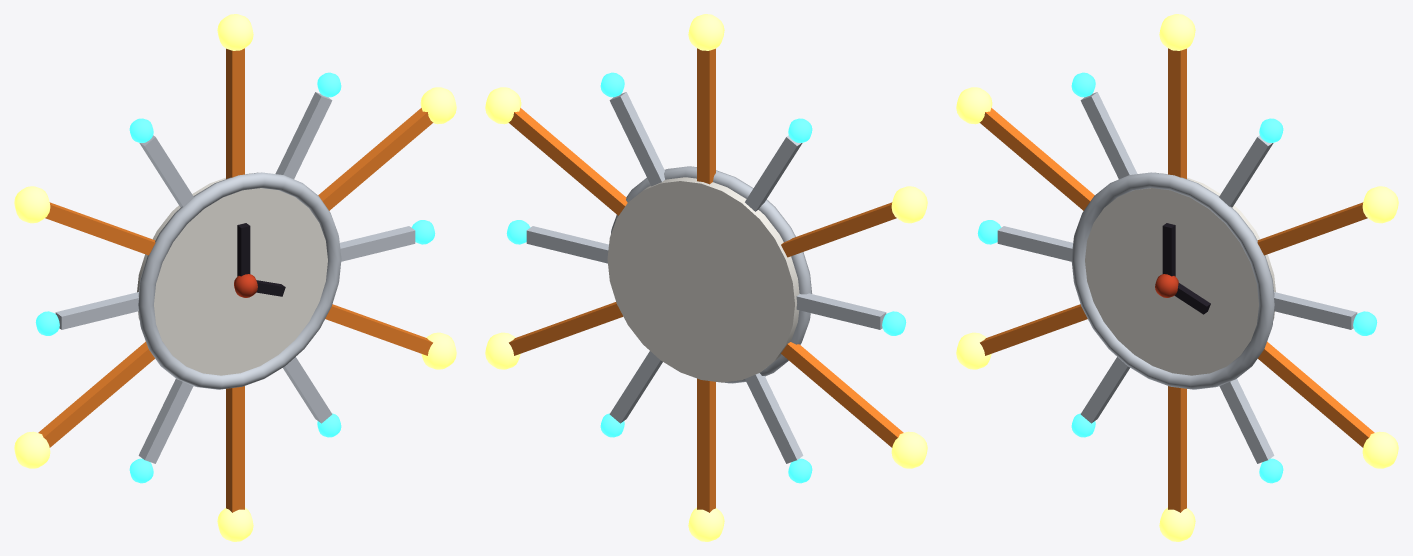
File: space_clock.glb
The picture shows the model from 3 angles, left to right: view 1: azimuth 30°, elevation 25°; view 2: azimuth 150°, elevation 25°; view 3: azimuth 330°, elevation 25°; orthographic projection.
Bounding box in the file's own units: 1.22 × 1.39 × 0.125.
